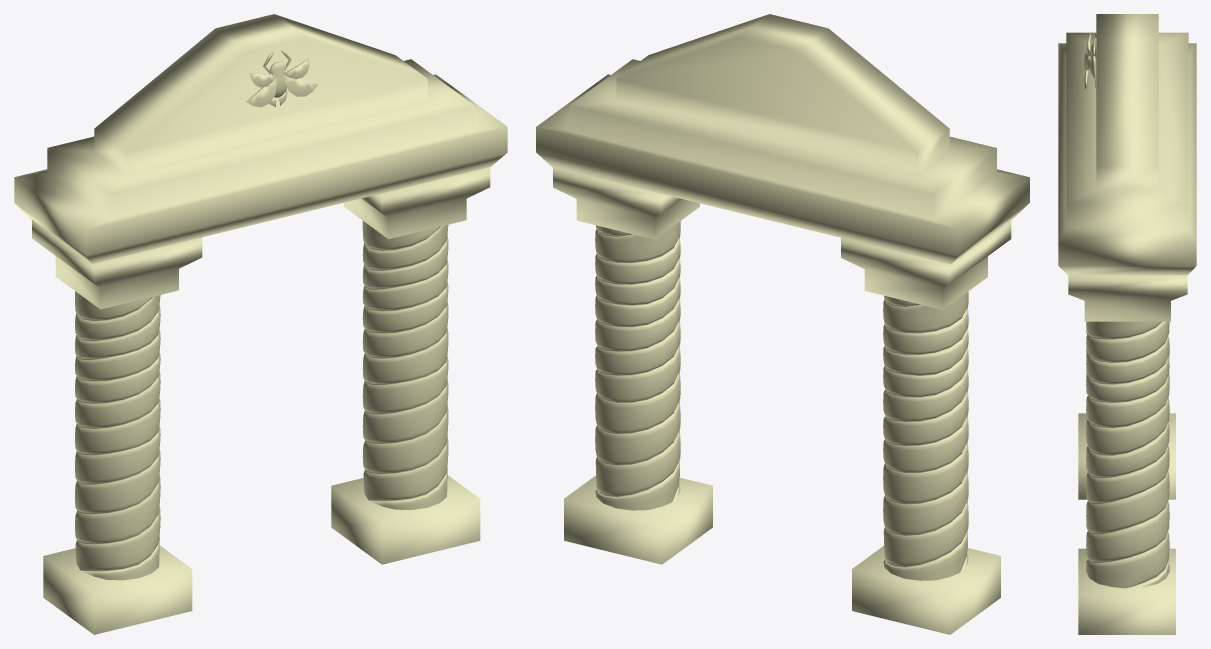
Rendered from Arch2.fbx.
3 views of the same model, side by side, from view 1: azimuth 30°, elevation 25°; view 2: azimuth 150°, elevation 25°; view 3: azimuth 270°, elevation 25° (orthographic). The views are drawn at different scales.
Parts seen in each view (by area): view 1: Arch2; view 2: Arch2; view 3: Arch2.
Boxes of the visible parts, x1=… form: Arch2: x1=14, y1=14, x2=507, y2=634; Arch2: x1=536, y1=14, x2=1029, y2=634; Arch2: x1=1058, y1=14, x2=1196, y2=634.
Bounding box in the file's own units: 2.5 × 3.04 × 0.7385.
